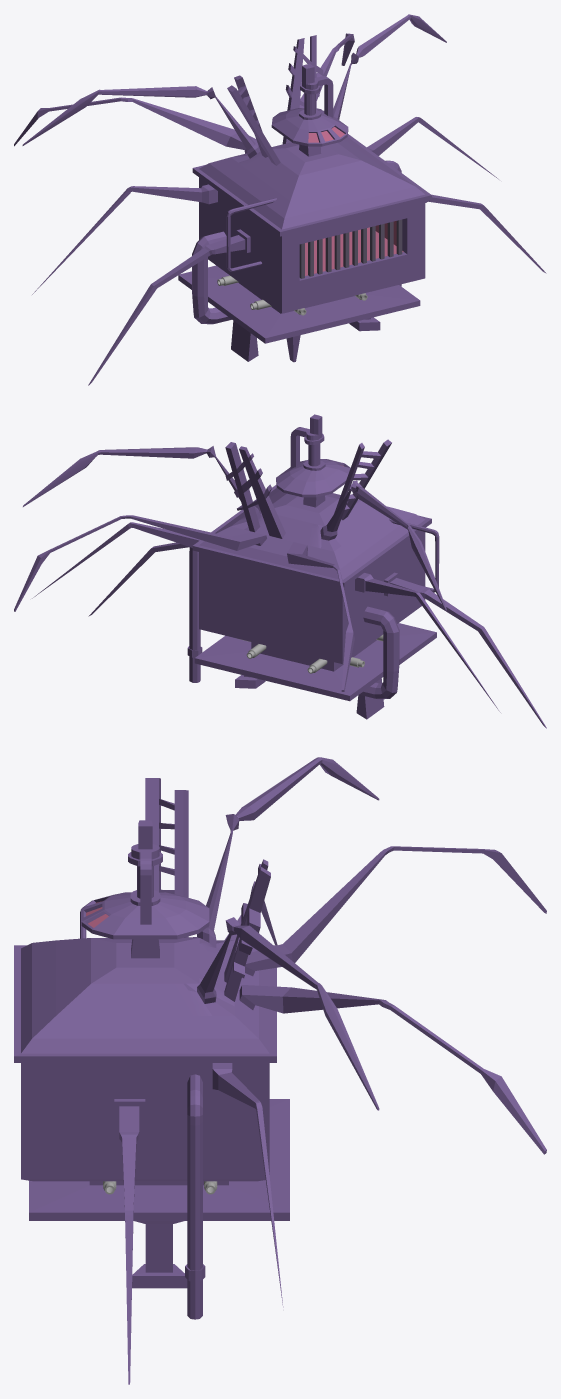
Rendered from bossEdit3.fbx.
3 views of the same model, one above another, from view 1: azimuth 30°, elevation 25°; view 2: azimuth 150°, elevation 25°; view 3: azimuth 270°, elevation 25° (orthographic). The views are drawn at different scales.
Parts seen in each view (by area): view 1: armAttachedBody_GEO, baseBody_GEO, rotateableBody_GEO, rotatableHead_GEO, furnaceInterior_GEO; view 2: armAttachedBody_GEO, baseBody_GEO, rotateableBody_GEO, rotatableHead_GEO, turretBody_GEO; view 3: armAttachedBody_GEO, baseBody_GEO, rotateableBody_GEO, rotatableHead_GEO.
Boxes of the visible parts, bbox=[...] form: armAttachedBody_GEO: bbox=[14, 14, 546, 385]; baseBody_GEO: bbox=[178, 63, 420, 362]; rotateableBody_GEO: bbox=[199, 230, 425, 313]; rotatableHead_GEO: bbox=[271, 108, 348, 146]; furnaceInterior_GEO: bbox=[305, 221, 403, 275]; armAttachedBody_GEO: bbox=[14, 439, 546, 728]; baseBody_GEO: bbox=[187, 414, 436, 719]; rotateableBody_GEO: bbox=[199, 581, 425, 663]; rotatableHead_GEO: bbox=[276, 459, 350, 497]; turretBody_GEO: bbox=[251, 640, 376, 671]; armAttachedBody_GEO: bbox=[14, 757, 546, 1384]; baseBody_GEO: bbox=[29, 820, 289, 1319]; rotateableBody_GEO: bbox=[21, 1145, 269, 1181]; rotatableHead_GEO: bbox=[81, 890, 209, 939].
Bounding box in the file's own units: 694 × 389 × 452.
